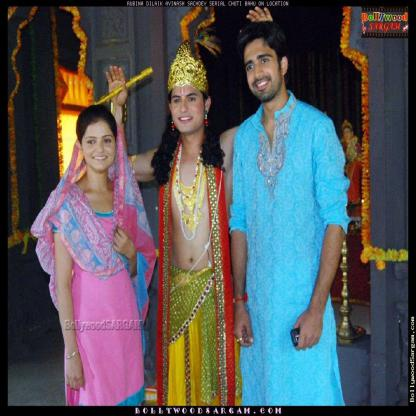face: (242, 40, 278, 103), (173, 80, 202, 130), (86, 122, 115, 164)
